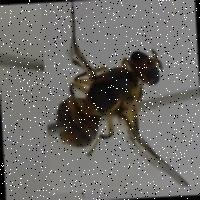Oriental-fruit-fly: (39, 0, 200, 194)
